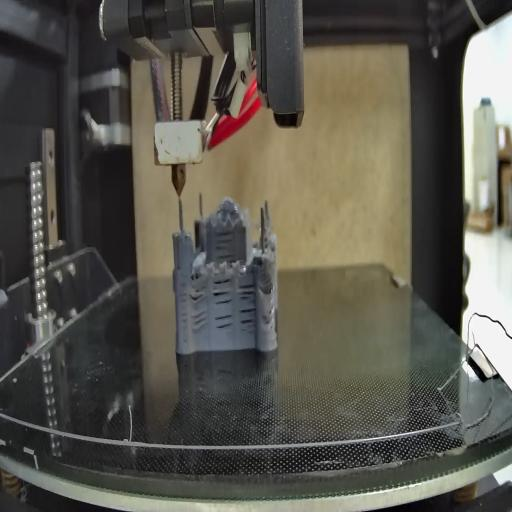cracks: (237, 278, 257, 331), (213, 227, 237, 261), (212, 278, 234, 306), (179, 280, 188, 346), (189, 277, 209, 303), (215, 310, 233, 336), (260, 270, 275, 296), (262, 305, 276, 330), (193, 312, 210, 330)
